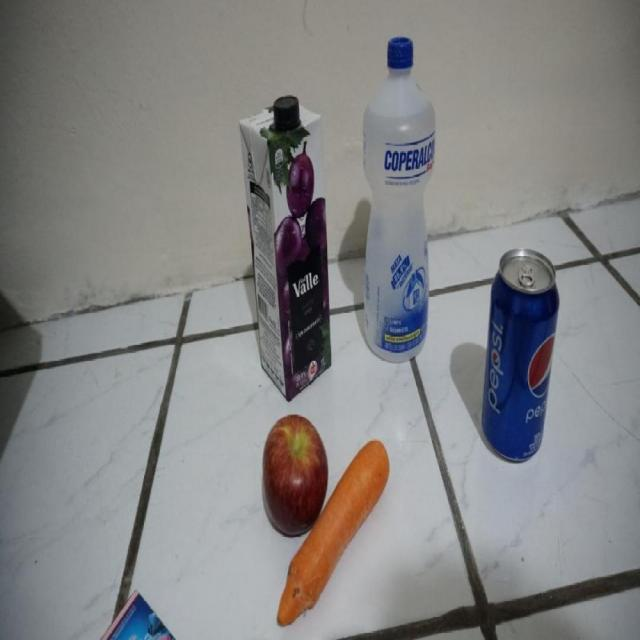AlcoholBottle: (361, 36, 437, 365)
Apple: (262, 413, 329, 537)
Carrot: (328, 438, 391, 578)
Gelatine: (102, 590, 183, 638)
SodaCan: (482, 245, 560, 465)
